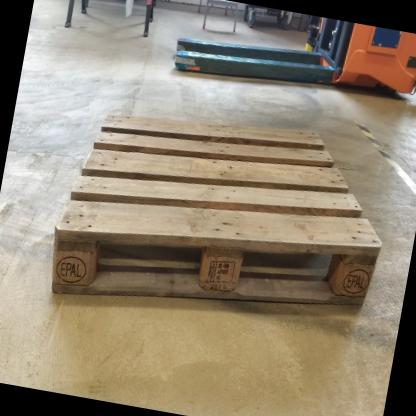BoxFace: (51, 110, 385, 312)
